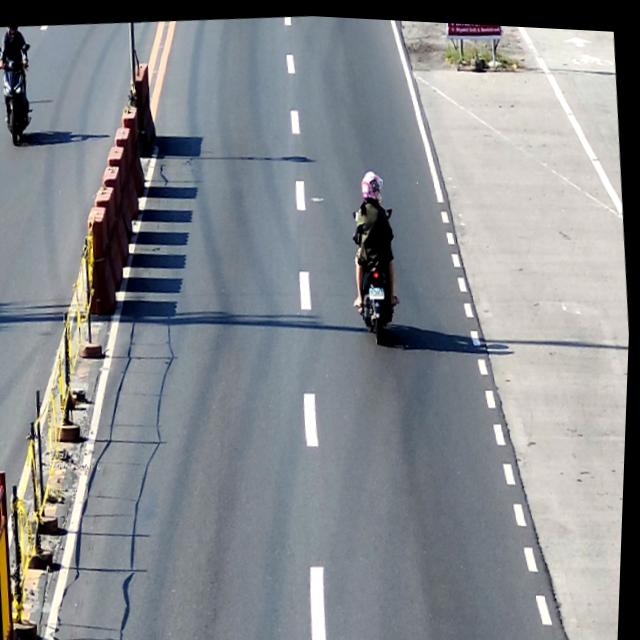License-Plate: (369, 281, 386, 296)
Motorcycle: (351, 199, 405, 335), (0, 37, 40, 154)
